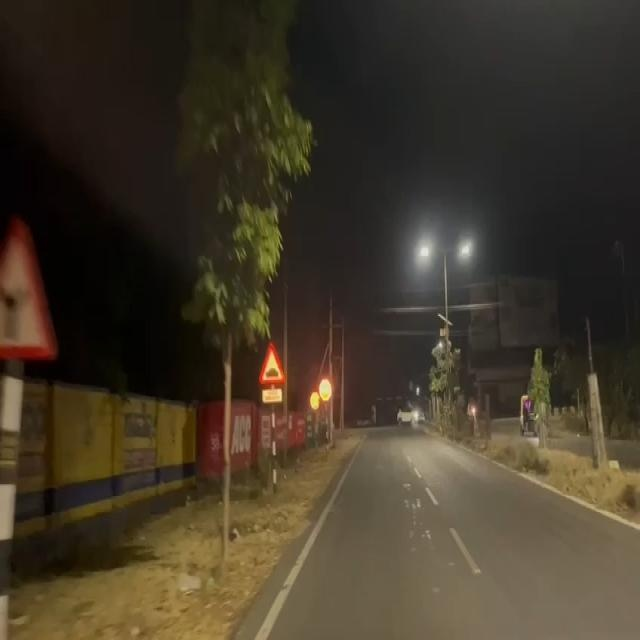bien_nguy_hiem: (0, 212, 66, 368), (257, 339, 286, 384)
